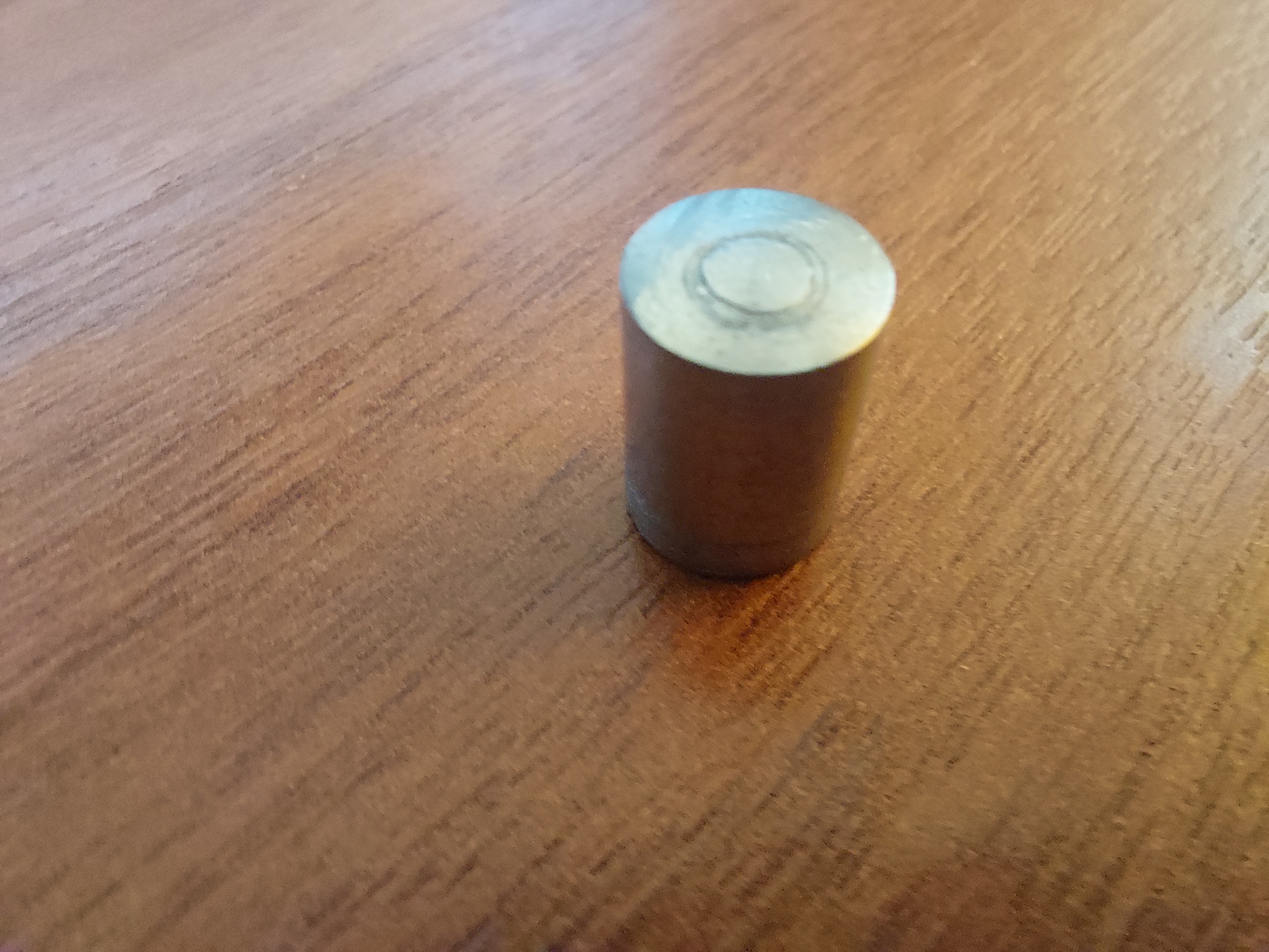tablet: (591, 181, 924, 590)
